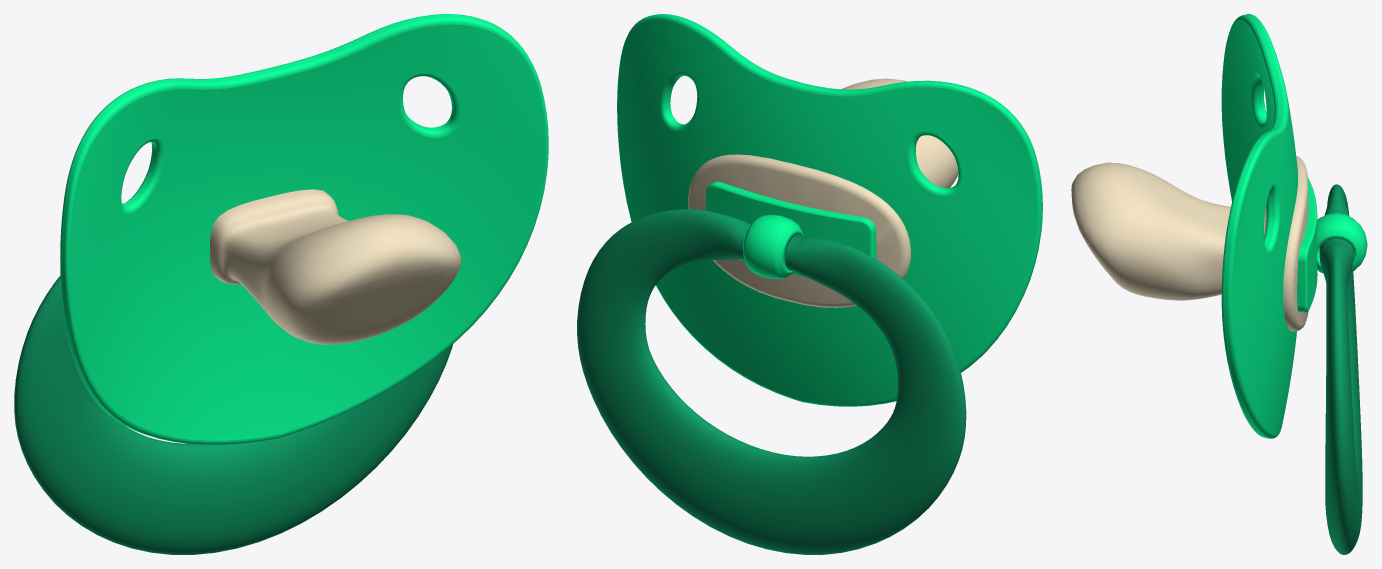
Rendered from pacifierR18.c4d.fbx.
3 views of the same model, side by side, from view 1: azimuth 30°, elevation 25°; view 2: azimuth 150°, elevation 25°; view 3: azimuth 270°, elevation 25° (orthographic). The views are drawn at different scales.
Parts seen in each view (by area): view 1: Cap_1, ring, front, Rounding_1, main_element, Rounding_2; view 2: Cap_2, ring, element_backside_001, Rounding_2, Cap, Tube, front, main_element, Rounding, element_backside_002; view 3: front, Cap_2, ring, Cap_1, Rounding_2, main_element, element_backside_001, Rounding_1, Tube, element_backside_002, Cap, Rounding.
Part boxes in pixels (x1,y1,x2,y2): Cap_1: (69,24,545,440); ring: (14,275,452,554); front: (210,189,461,344); Rounding_1: (64,17,548,444); main_element: (61,14,528,434); Rounding_2: (60,14,507,415); Cap_2: (617,19,1037,404); ring: (577,209,966,554); element_backside_001: (688,154,910,307); Rounding_2: (617,14,1041,406); Cap: (706,186,870,275); Tube: (743,214,803,279); front: (841,78,958,187); main_element: (653,14,1042,296); Rounding: (705,183,873,277); element_backside_002: (711,181,876,259); front: (1071,162,1266,300); Cap_2: (1232,99,1297,435); ring: (1319,184,1362,554); Cap_1: (1222,20,1274,206); Rounding_2: (1227,14,1288,438); main_element: (1223,14,1283,438); element_backside_001: (1283,156,1308,331); Rounding_1: (1221,15,1278,435); Tube: (1316,213,1367,273); element_backside_002: (1297,180,1314,312); Cap: (1307,217,1317,310); Rounding: (1304,178,1317,312).
Bounding box in the file's own units: 6.05 × 6.35 × 3.79.
